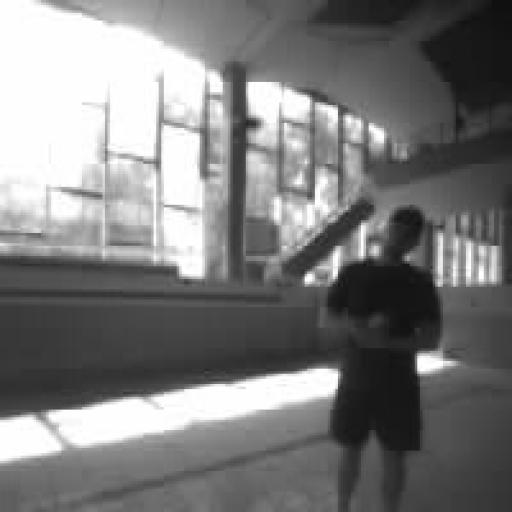human: (323, 205, 442, 511)
